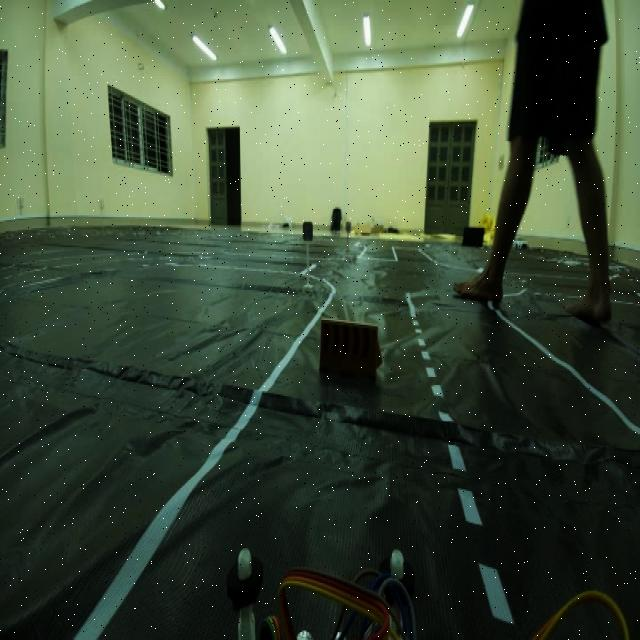roadblock: (312, 307, 387, 403)
